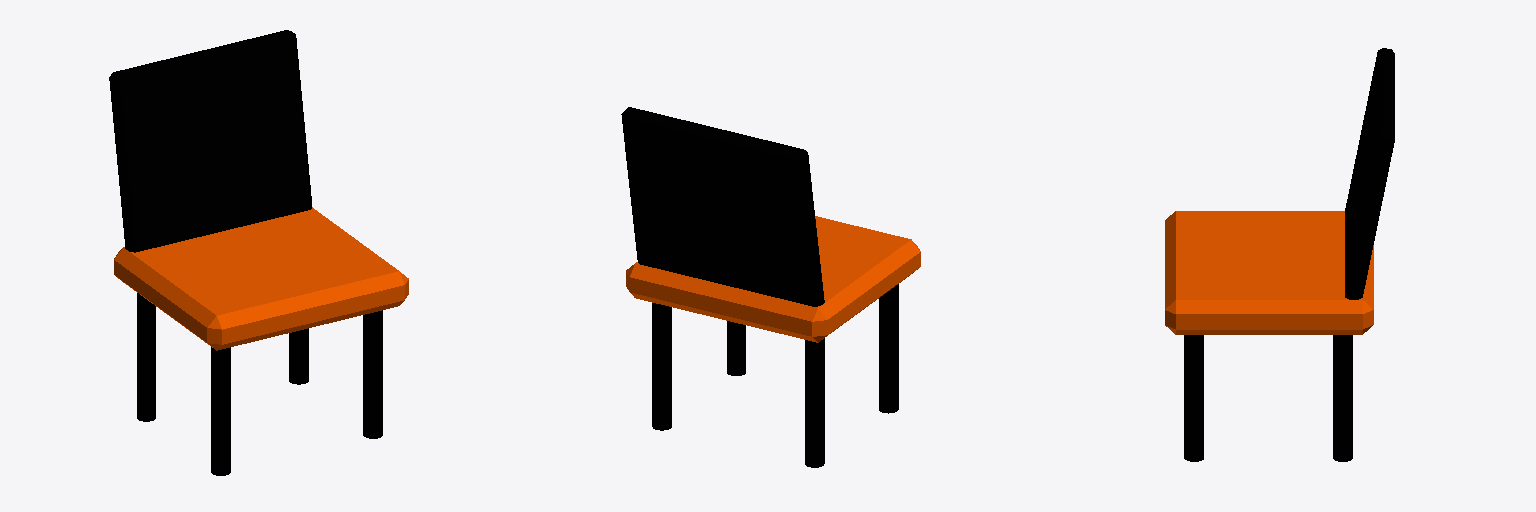
File: chair.obj
3 views of the same model, side by side, from view 1: azimuth 30°, elevation 25°; view 2: azimuth 150°, elevation 25°; view 3: azimuth 270°, elevation 25° (orthographic).
Visible parts, largest first — view 1: Box002, Box001, Cylinder001, Cylinder002, Cylinder004, Cylinder003; view 2: Box002, Box001, Cylinder004, Cylinder003, Cylinder001, Cylinder002; view 3: Box001, Box002, Cylinder003, Cylinder002.
Part boxes in pixels (x1,y1,x2,y2): Box002: (109,30,311,252); Box001: (114,207,408,350); Cylinder001: (211,347,230,475); Cylinder002: (363,310,382,438); Cylinder004: (137,293,155,421); Cylinder003: (289,328,308,384); Box002: (621,107,824,306); Box001: (626,216,920,342); Cylinder004: (805,338,824,467); Cylinder003: (652,303,671,430); Cylinder001: (879,284,898,413); Cylinder002: (727,321,745,375); Box001: (1165,211,1373,334); Box002: (1345,48,1394,299); Cylinder003: (1333,335,1352,461); Cylinder002: (1184,335,1203,461).
Bounding box in the file's own units: 12.73 × 19.96 × 12.59.